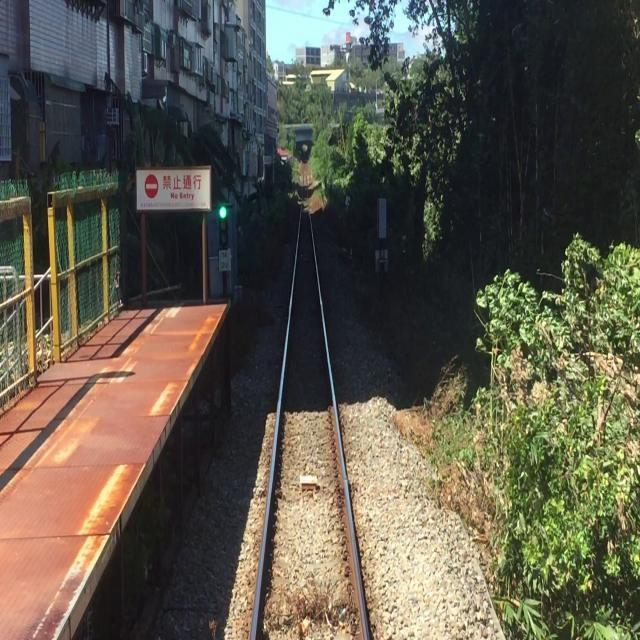track: (243, 176, 379, 640)
